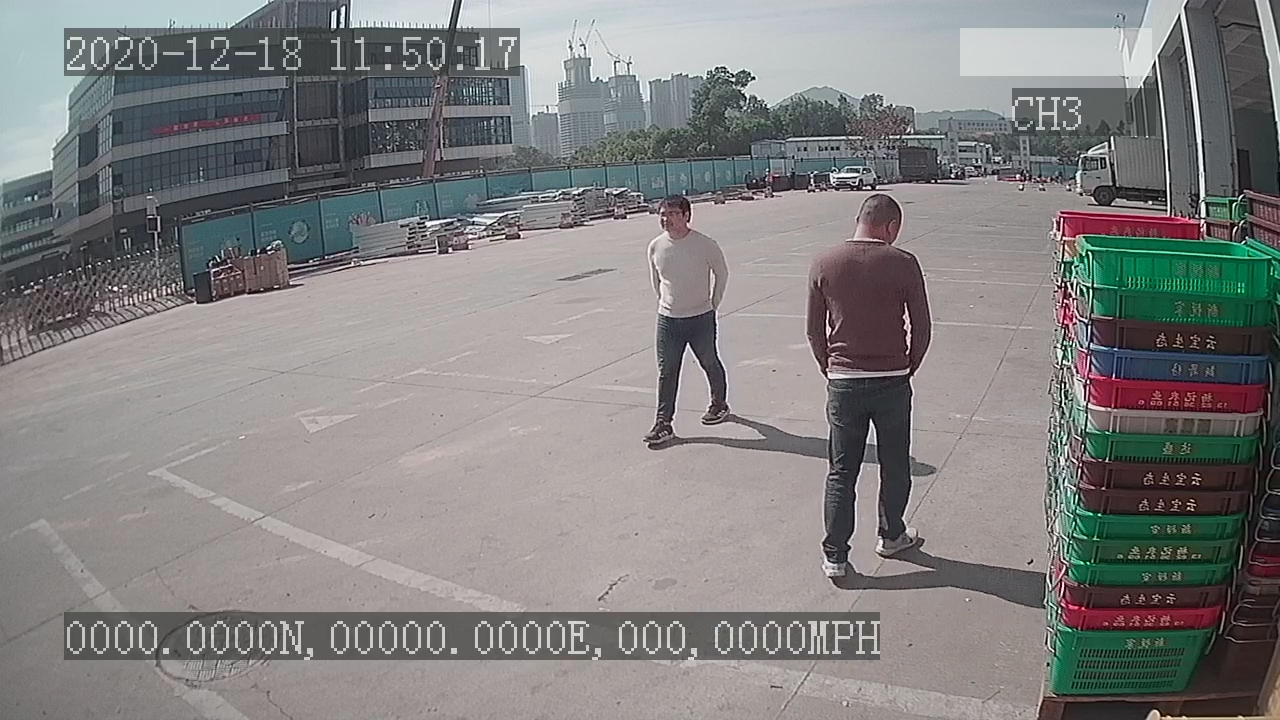person: (799, 190, 938, 588), (638, 195, 731, 451)
